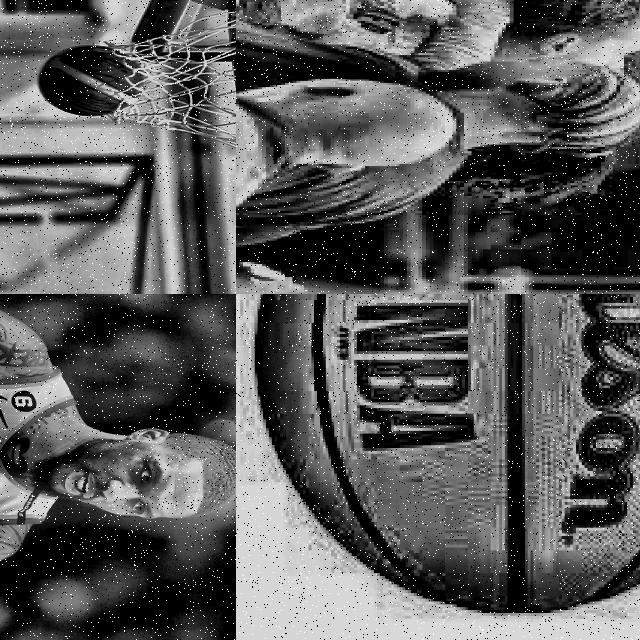Basketball: (255, 294, 640, 613), (38, 47, 138, 116)
